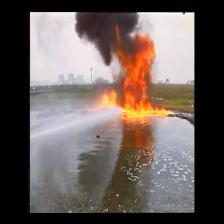fire: (119, 58, 151, 116)
smoke: (81, 14, 134, 46)
